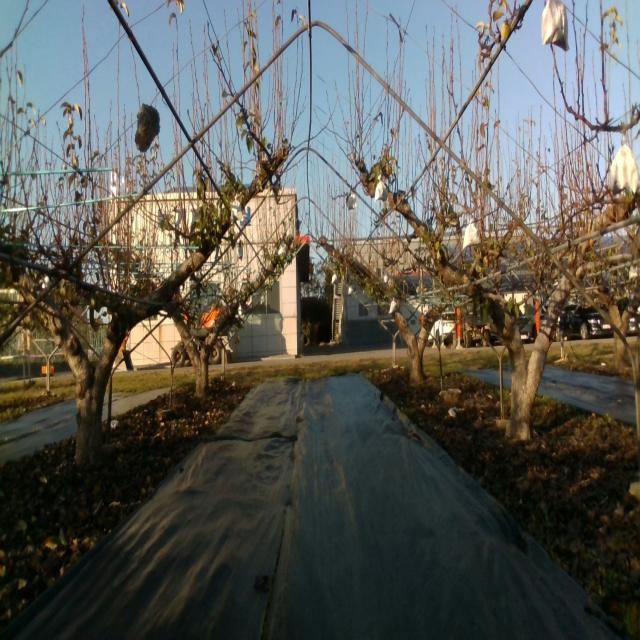pearbags: (609, 145, 638, 197), (538, 0, 568, 49), (462, 220, 482, 250), (231, 195, 244, 222), (375, 173, 387, 202)
